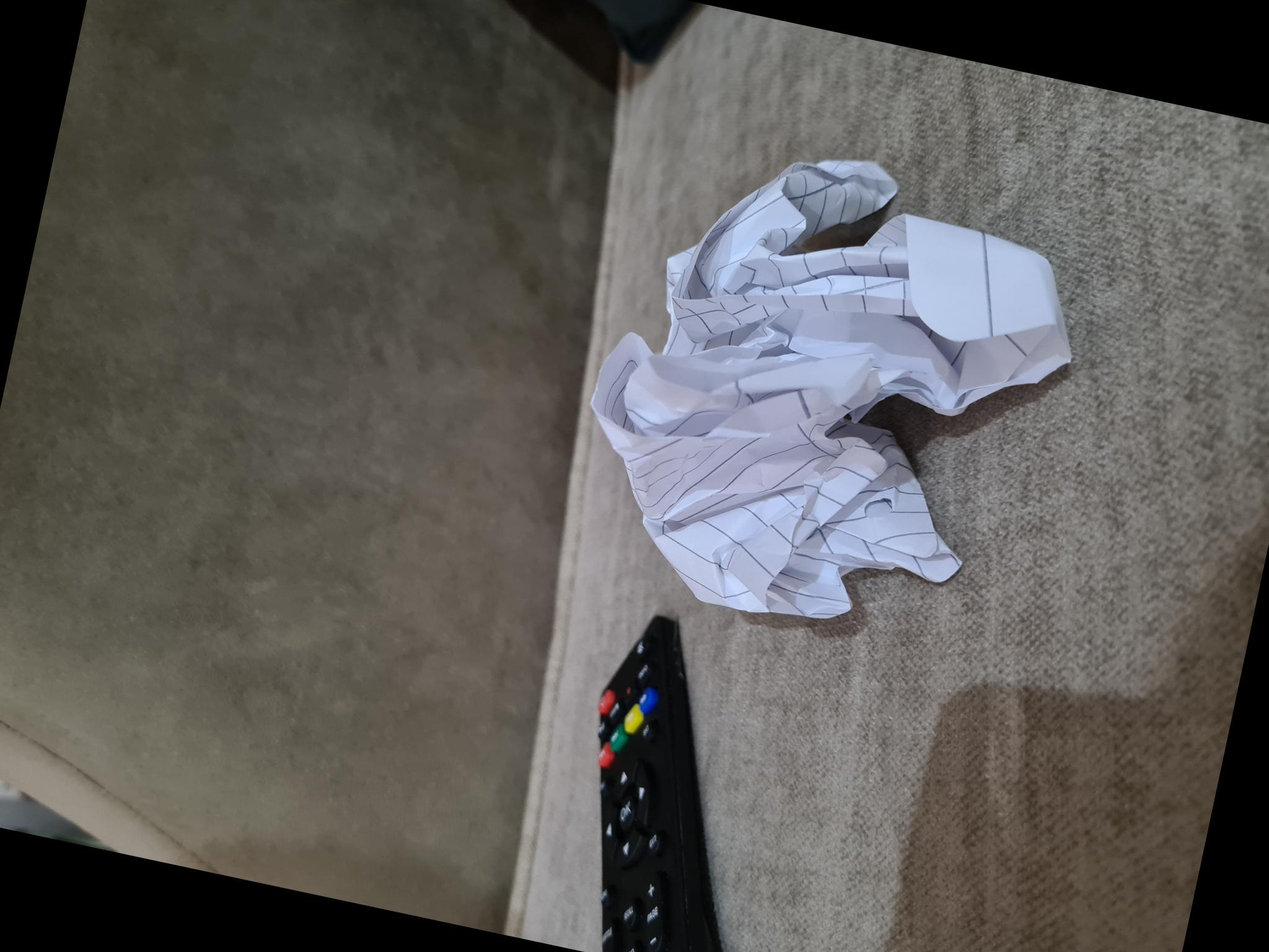Kertas: (268, 557, 770, 952)
